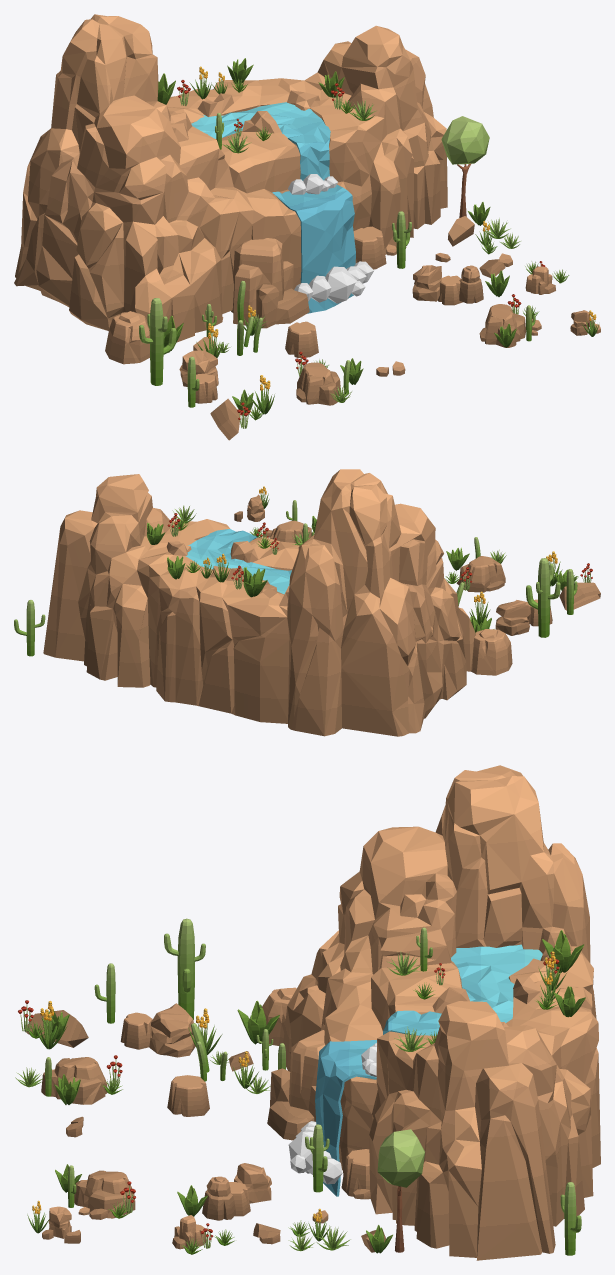
File: redrock_oasis.glb
3 views of the same model, one above another, from view 1: azimuth 30°, elevation 25°; view 2: azimuth 150°, elevation 25°; view 3: azimuth 270°, elevation 25° (orthographic). The views are drawn at different scales.
Parts seen in each view (by area): view 1: canyon mountain 6_77, waterfall 15_76, stone large brown 8_73, waterfall 14_81, tree 25_21, stone large brown 3_72, cactus 4 (1)_63, stone large brown 7_64, stone large brown 7 (1)_69, stone large brown 4_59, stone large brown 4 (1)_4, stone large brown 9 (1)_11 (+8 smaller); view 2: canyon mountain 6_77, waterfall 14_81, stone large brown 3_72, cactus 4 (1)_63, stone large brown 7_64, stone large brown 9_15, stone small brown 2 (2)_75, cactus 3 (1)_87, stone large brown 7 (1)_69, shrub 6 (5)_10, cactus 2 (1)_78, stone large brown 9 (2)_32; view 3: canyon mountain 6_77, waterfall 14_81, stone large brown 8_73, waterfall 15_76, tree 25_21, stone large brown 7 (1)_69, stone large brown 7_64, stone large brown 9_15, cactus 4 (1)_63, stone large brown 4 (1)_4, stone large brown 6_48, stone large brown 4_59 (+9 smaller).
Boxes of the visible parts, bbox=[...] form: canyon mountain 6_77: bbox=[14, 14, 447, 342]; waterfall 15_76: bbox=[272, 184, 355, 313]; stone large brown 8_73: bbox=[231, 238, 309, 328]; waterfall 14_81: bbox=[191, 102, 330, 180]; tree 25_21: bbox=[441, 116, 489, 217]; stone large brown 3_72: bbox=[105, 311, 149, 364]; cactus 4 (1)_63: bbox=[139, 298, 176, 385]; stone large brown 7_64: bbox=[296, 362, 340, 405]; stone large brown 7 (1)_69: bbox=[479, 304, 526, 347]; stone large brown 4_59: bbox=[353, 226, 386, 269]; stone large brown 4 (1)_4: bbox=[285, 321, 318, 358]; stone large brown 9 (1)_11: bbox=[412, 265, 441, 301]; canyon mountain 6_77: bbox=[43, 469, 475, 736]; waterfall 14_81: bbox=[186, 529, 291, 594]; stone large brown 3_72: bbox=[471, 629, 512, 675]; cactus 4 (1)_63: bbox=[526, 558, 560, 637]; stone large brown 7_64: bbox=[456, 556, 505, 592]; stone large brown 9_15: bbox=[495, 600, 530, 635]; stone small brown 2 (2)_75: bbox=[559, 582, 600, 610]; cactus 3 (1)_87: bbox=[14, 600, 45, 656]; stone large brown 7 (1)_69: bbox=[270, 520, 311, 543]; shrub 6 (5)_10: bbox=[243, 567, 267, 597]; cactus 2 (1)_78: bbox=[566, 569, 577, 614]; stone large brown 9 (2)_32: bbox=[247, 494, 264, 521]; canyon mountain 6_77: bbox=[283, 765, 600, 1260]; waterfall 14_81: bbox=[383, 944, 542, 1035]; stone large brown 8_73: bbox=[267, 1030, 325, 1140]; waterfall 15_76: bbox=[315, 1040, 376, 1196]; tree 25_21: bbox=[377, 1129, 424, 1252]; stone large brown 7 (1)_69: bbox=[74, 1170, 135, 1218]; stone large brown 7_64: bbox=[41, 1057, 107, 1104]; stone large brown 9_15: bbox=[149, 1003, 195, 1057]; cactus 4 (1)_63: bbox=[164, 918, 205, 1019]; stone large brown 4 (1)_4: bbox=[167, 1075, 209, 1116]; stone large brown 6_48: bbox=[202, 1176, 235, 1220]; stone large brown 4_59: bbox=[341, 1149, 370, 1199].
Size of the model in its own units: 18.99 by 11.05 by 18.55.
1 material, 1 textured.
